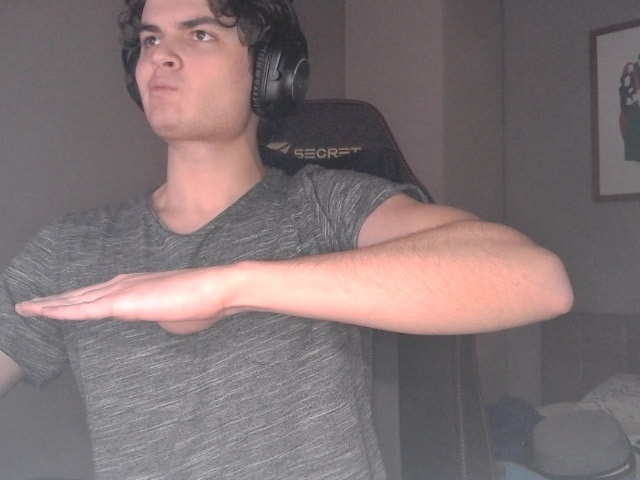space: (11, 216, 580, 357)
